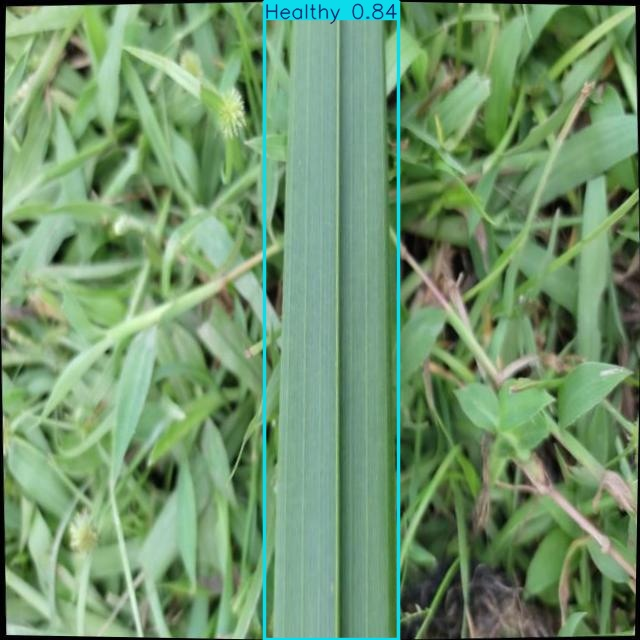Healthy: (265, 1, 399, 639)
